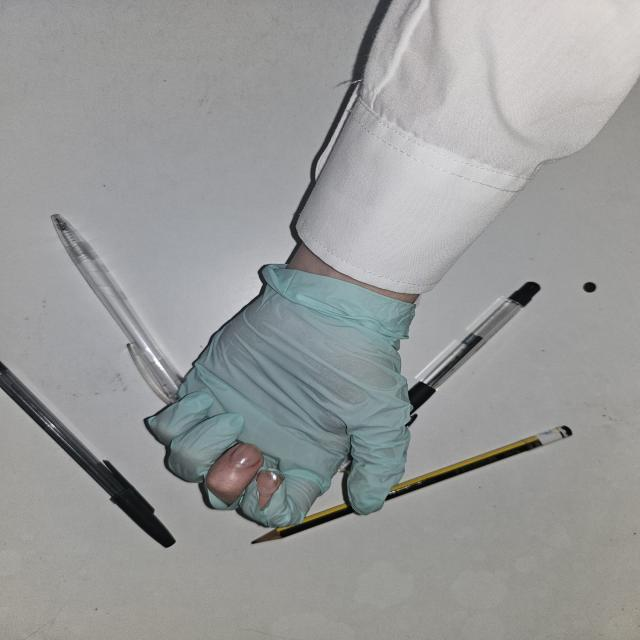gloves_damaged: (141, 262, 416, 524)
